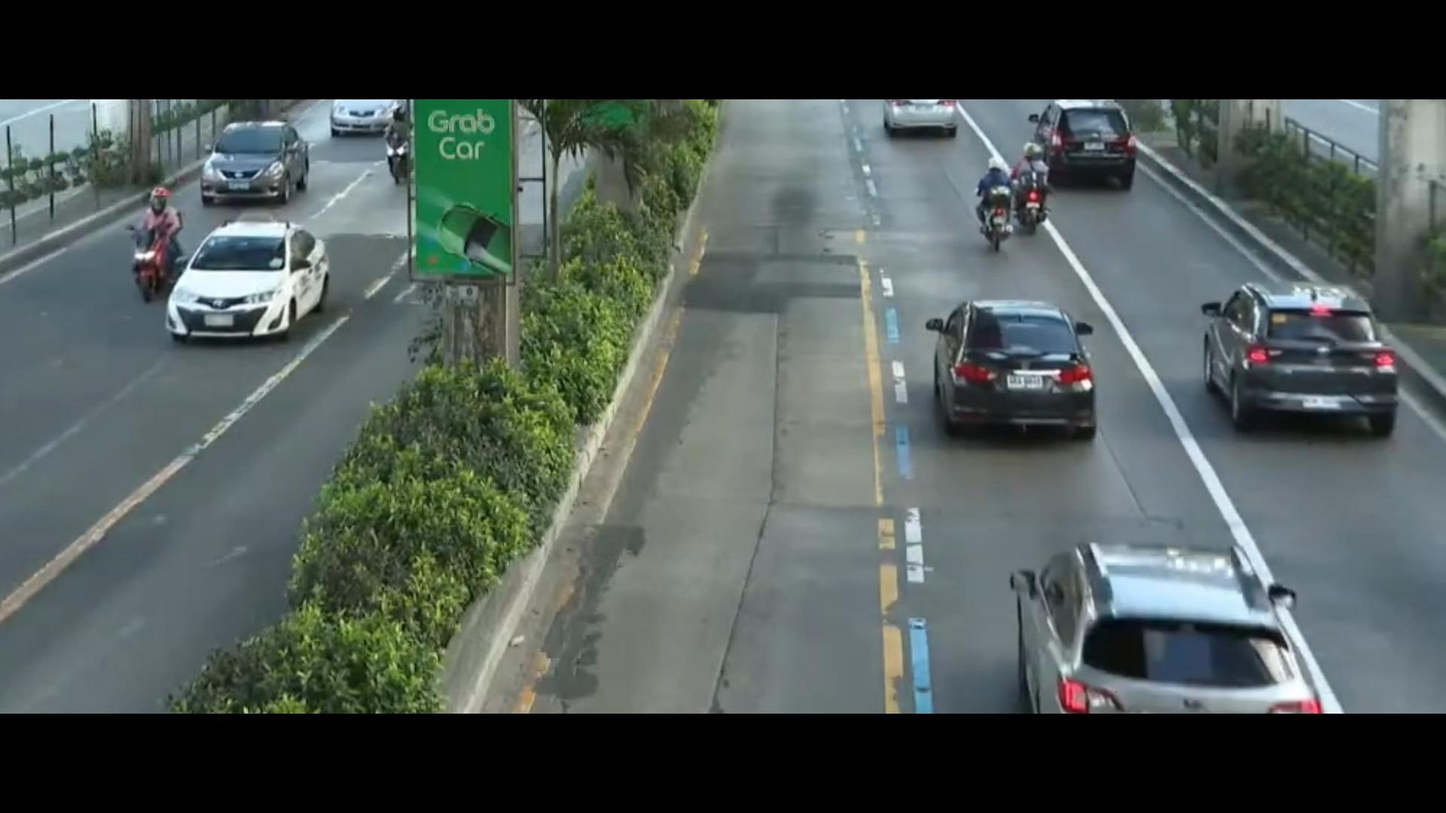Motorcycle: (113, 174, 191, 314), (961, 144, 1035, 260), (1001, 131, 1060, 228), (372, 98, 415, 190)
SUV: (965, 535, 1327, 717), (1192, 239, 1401, 489), (1031, 103, 1155, 190)
Sedan: (877, 294, 1110, 472), (149, 209, 324, 376), (169, 98, 314, 218)
